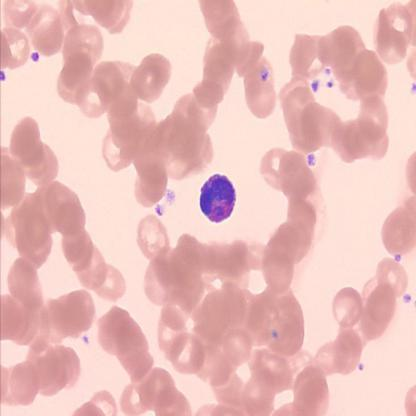Eosinophil: (200, 174, 236, 224)
